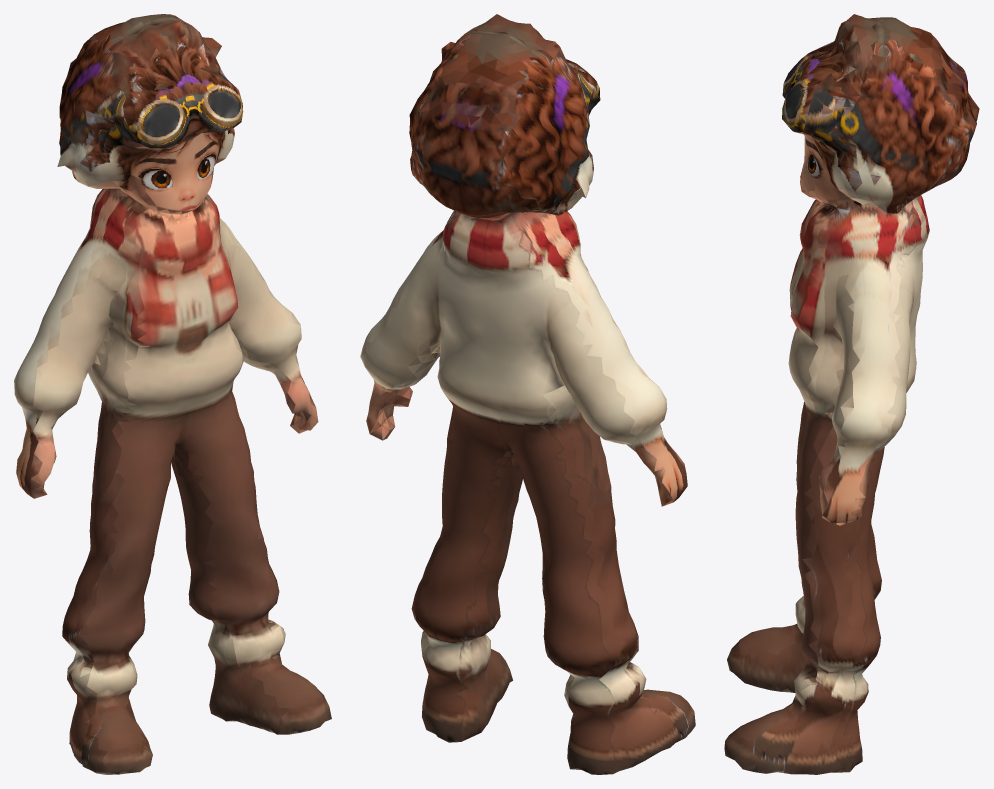
File: cocoa-echo-toon-x5.glb
3 renders of one model, left to right at view 1: azimuth 30°, elevation 25°; view 2: azimuth 150°, elevation 25°; view 3: azimuth 270°, elevation 25°, orthographic. The views are drawn at different scales.
Visible parts, largest first — view 1: world; view 2: world; view 3: world.
Boxes of the visible parts, x1=… form: world: x1=14, y1=14, x2=331, y2=774; world: x1=360, y1=14, x2=695, y2=774; world: x1=724, y1=14, x2=979, y2=774.
Bounding box in the file's own units: 2.04 × 4.71 × 1.53.
Materials: 1 (1 with a texture image).
